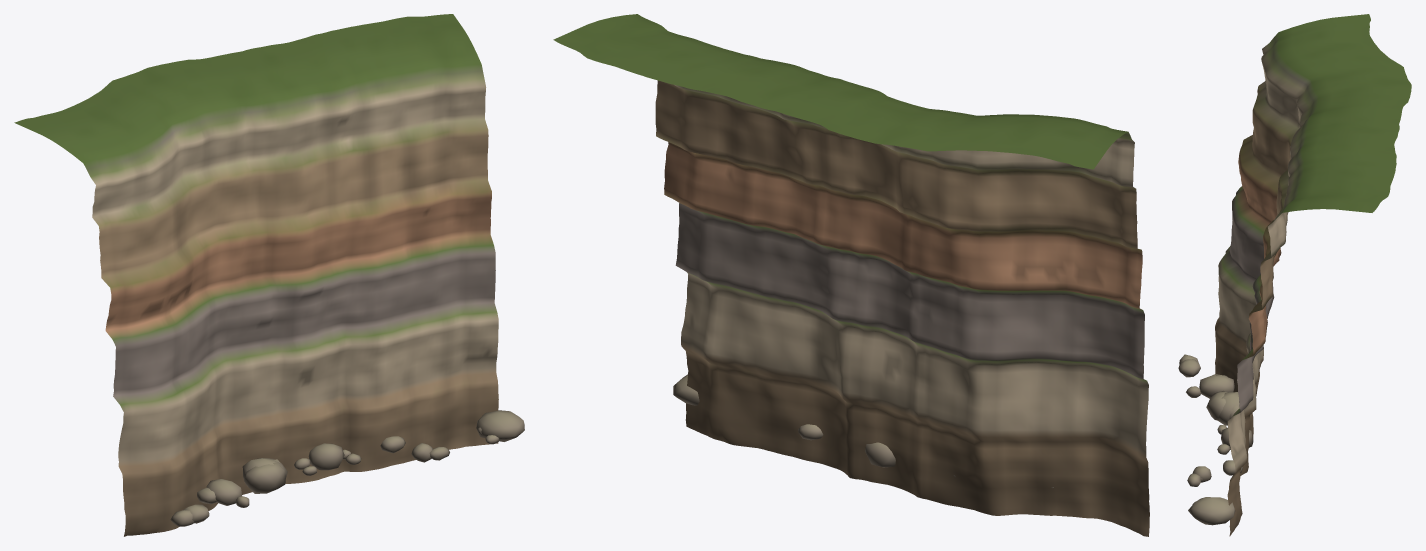
The model's file is valley-cliff_b.glb.
3 renders of one model, left to right at view 1: azimuth 30°, elevation 25°; view 2: azimuth 150°, elevation 25°; view 3: azimuth 270°, elevation 25°, orthographic. The views are drawn at different scales.
Parts seen in each view (by area): view 1: cliff_b_face, cliff_b_rocks; view 2: cliff_b_face, cliff_b_rocks; view 3: cliff_b_face, cliff_b_rocks.
Part boxes in pixels (x1,y1,x2,y2): cliff_b_face: (14, 14, 498, 536); cliff_b_rocks: (170, 410, 524, 526); cliff_b_face: (553, 14, 1149, 536); cliff_b_rocks: (673, 374, 1053, 488); cliff_b_face: (1215, 14, 1411, 536); cliff_b_rocks: (1178, 354, 1253, 525).
Bounding box in the file's own units: 66.42 × 52.6 × 32.85.
